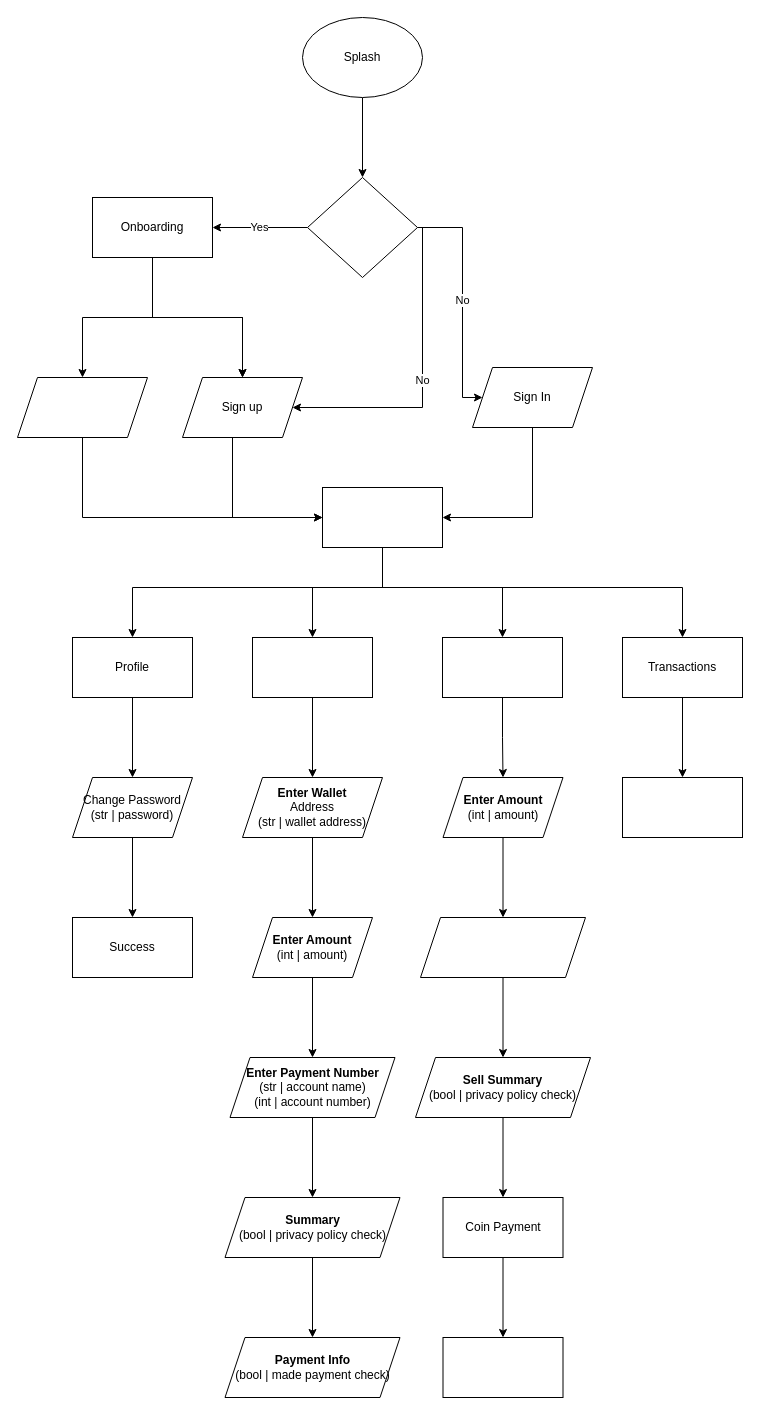
The diagram is 760 pixels wide and 1415 high, and some of its shapes have lost their labels. Each missing label, with the box of its shape:
Buy Crypto: (252, 636, 372, 698)
Enter Receiving Number (str | account name) (int | account number): (420, 916, 586, 978)
First time opening app: (306, 176, 418, 278)
Home: (322, 486, 442, 548)
Sell Crypto: (442, 636, 562, 698)
Sign in / GOOGLE: (16, 376, 148, 438)
Transaction History - Selected: (622, 776, 742, 838)
Transaction Success: (442, 1336, 563, 1398)
